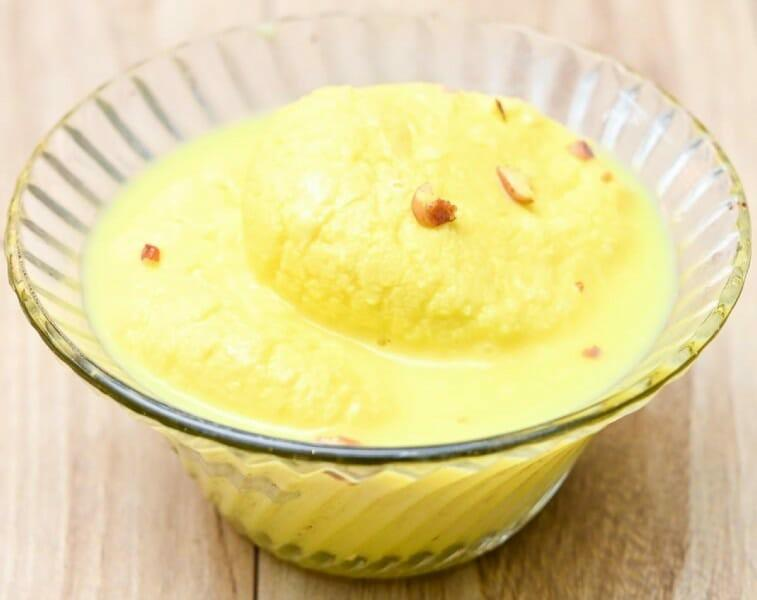RasMalai: (77, 77, 670, 446)
